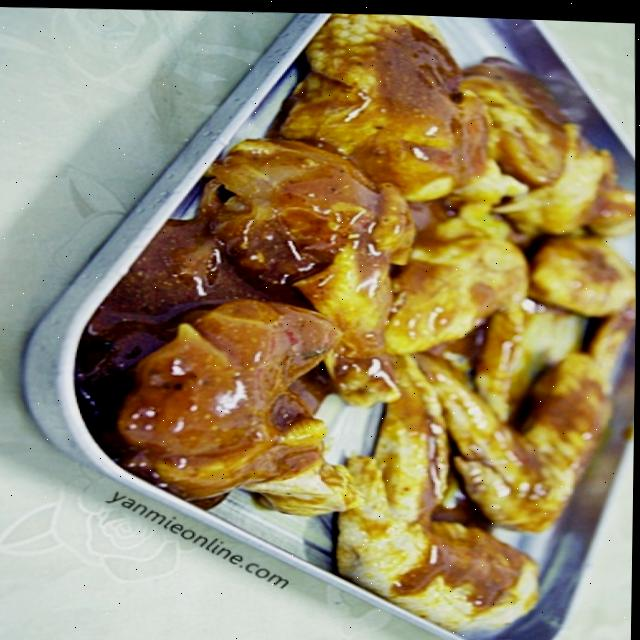鸡肉料理 含炸鸡: (55, 2, 640, 632)
